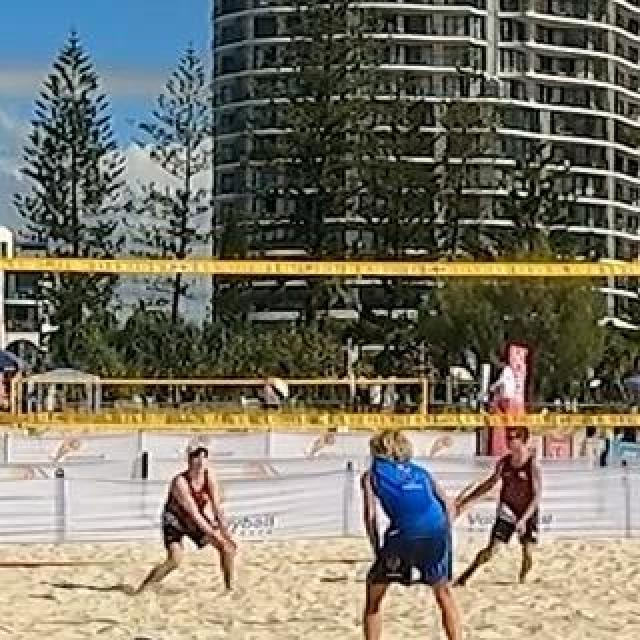volleyball: (257, 377, 287, 407)
